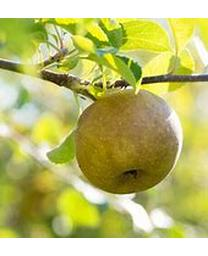apple: (75, 86, 184, 193)
